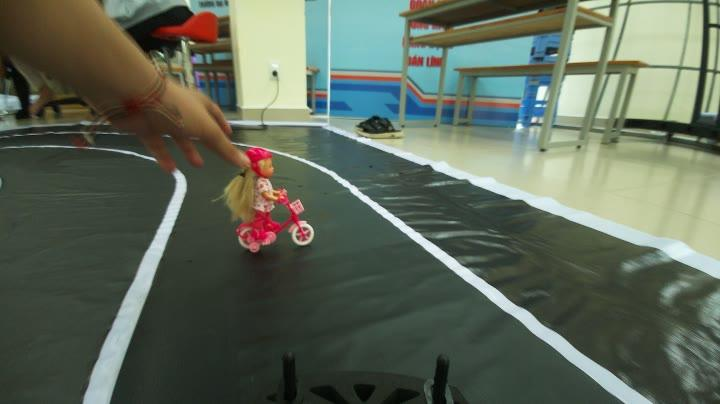pedestrian: (212, 151, 332, 250)
